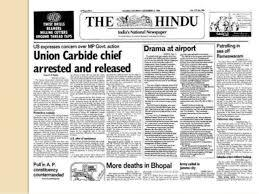Printing industry: (26, 4, 259, 194)
